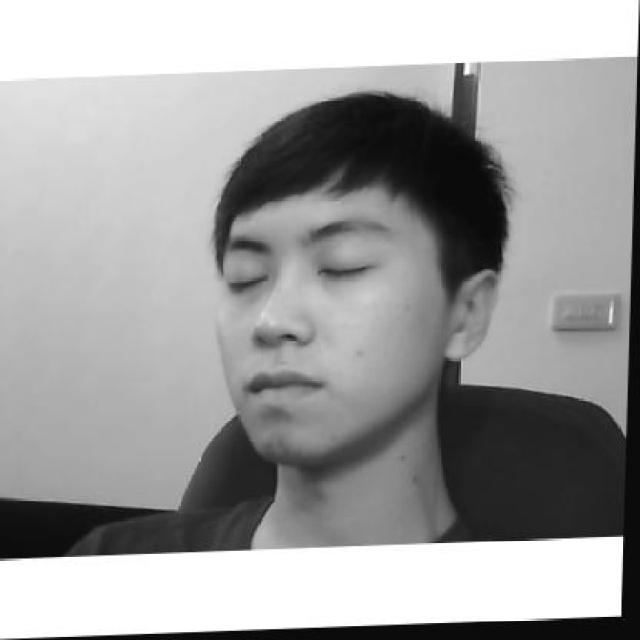inattentif: (208, 90, 504, 464)
